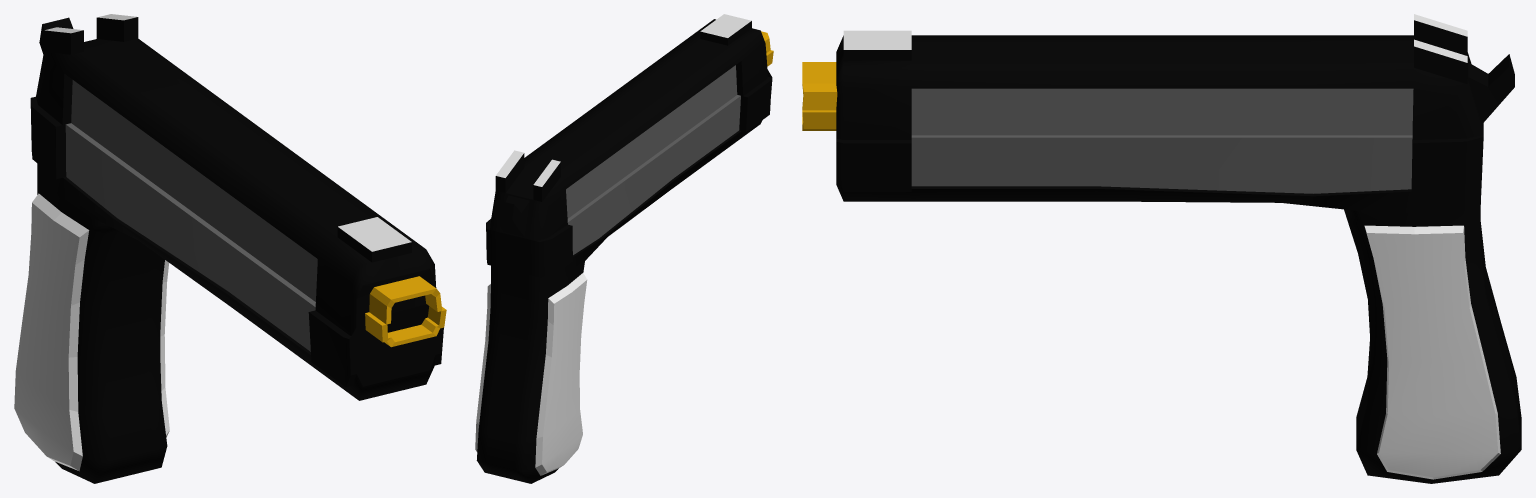
File: Gun.fbx
3 renders of one model, left to right at view 1: azimuth 30°, elevation 25°; view 2: azimuth 150°, elevation 25°; view 3: azimuth 270°, elevation 25°, orthographic. The views are drawn at different scales.
Parts seen in each view (by area): view 1: Gun; view 2: Gun; view 3: Gun.
Boxes of the visible parts, x1,y1,x2,y2 form: Gun: (14,14,446,483); Gun: (475,14,773,483); Gun: (802,14,1521,483).
Size of the model in its own units: 0.3745 by 1.55 by 2.31.
